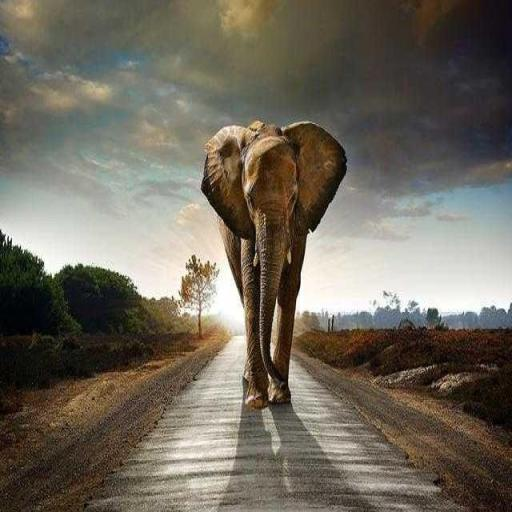Elephant: (200, 118, 347, 408)
